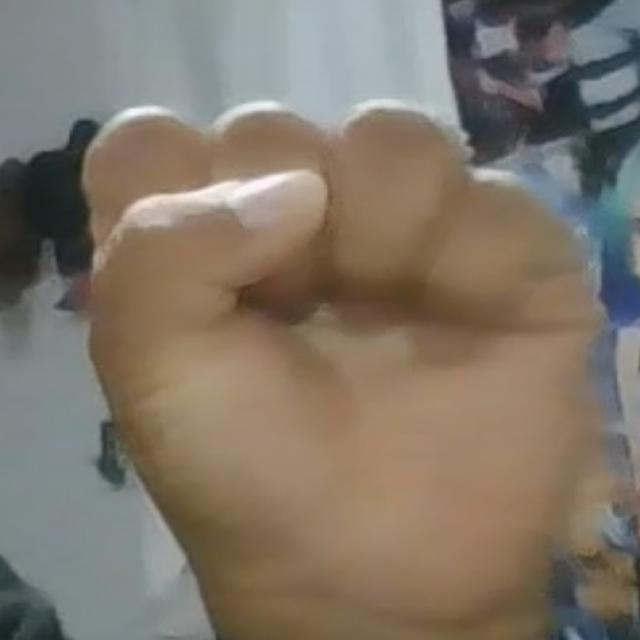S: (60, 94, 597, 620)
